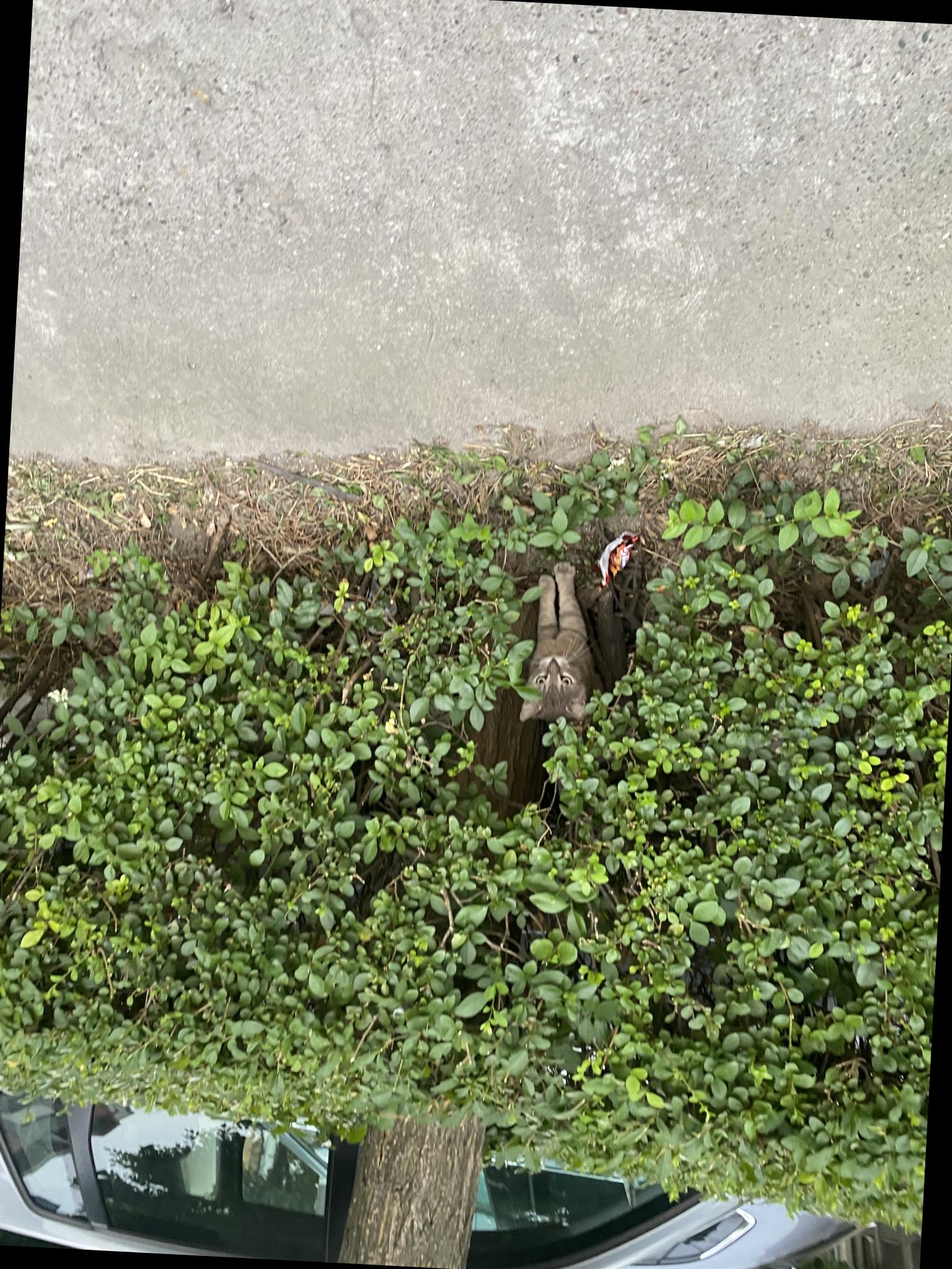macka: (518, 559, 597, 725)
